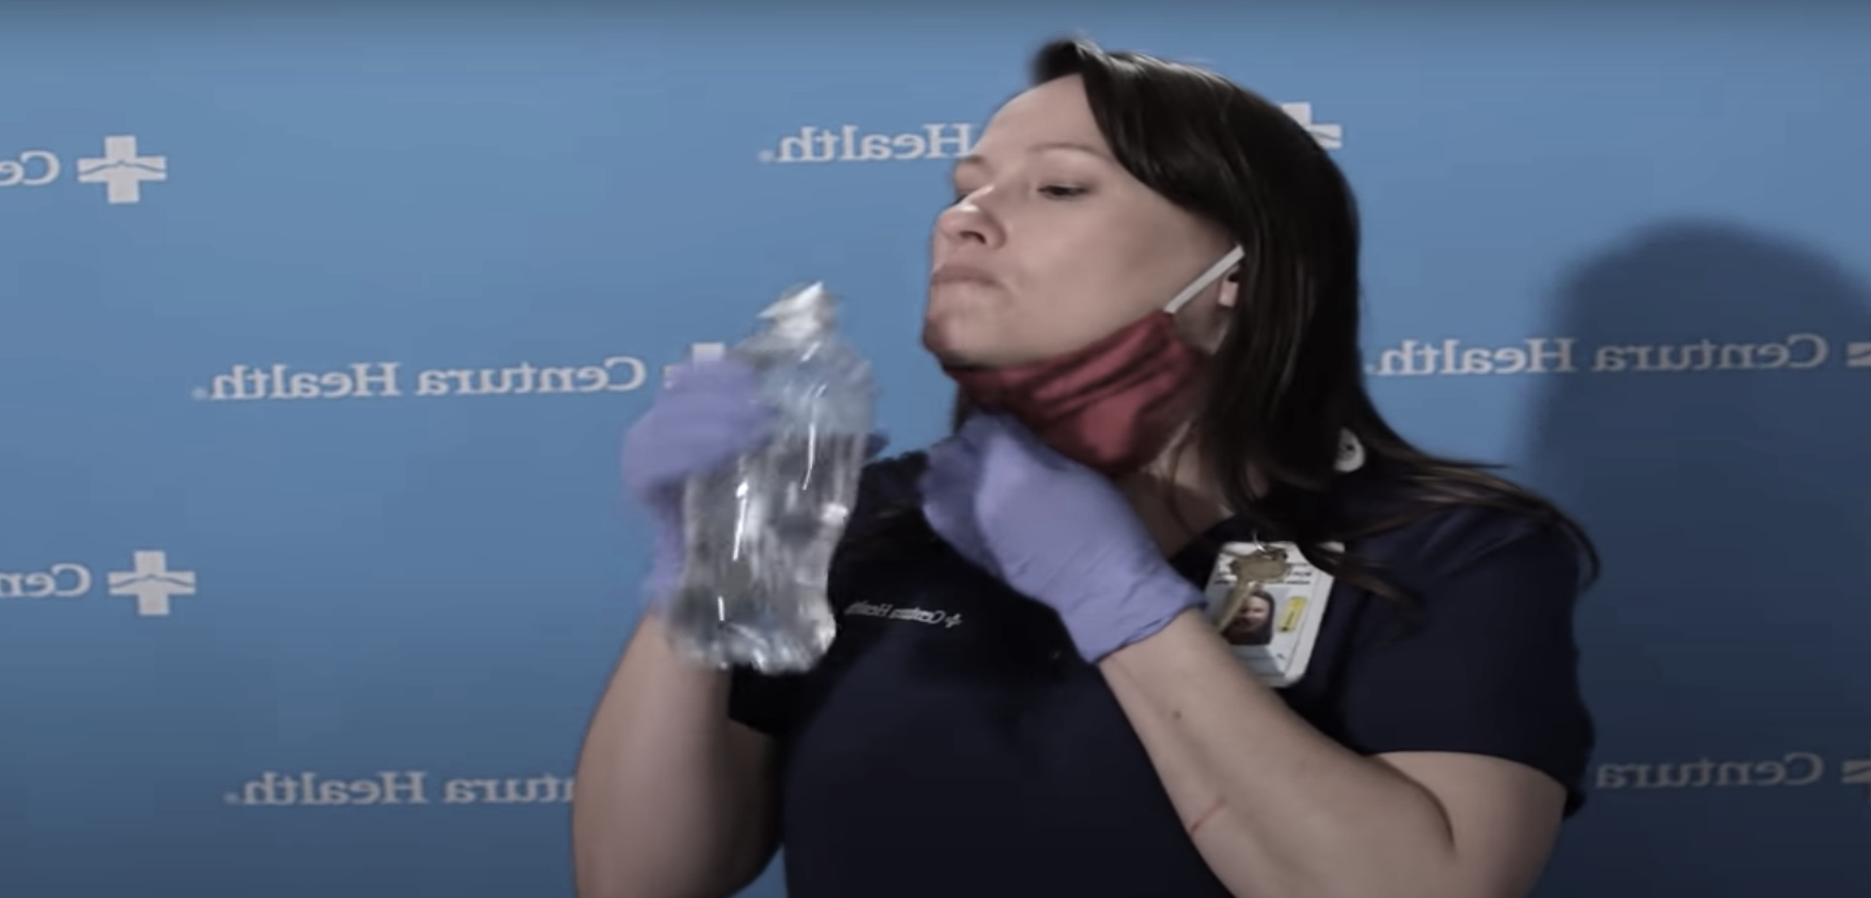mask_weared_incorrect: (920, 40, 1355, 477)
